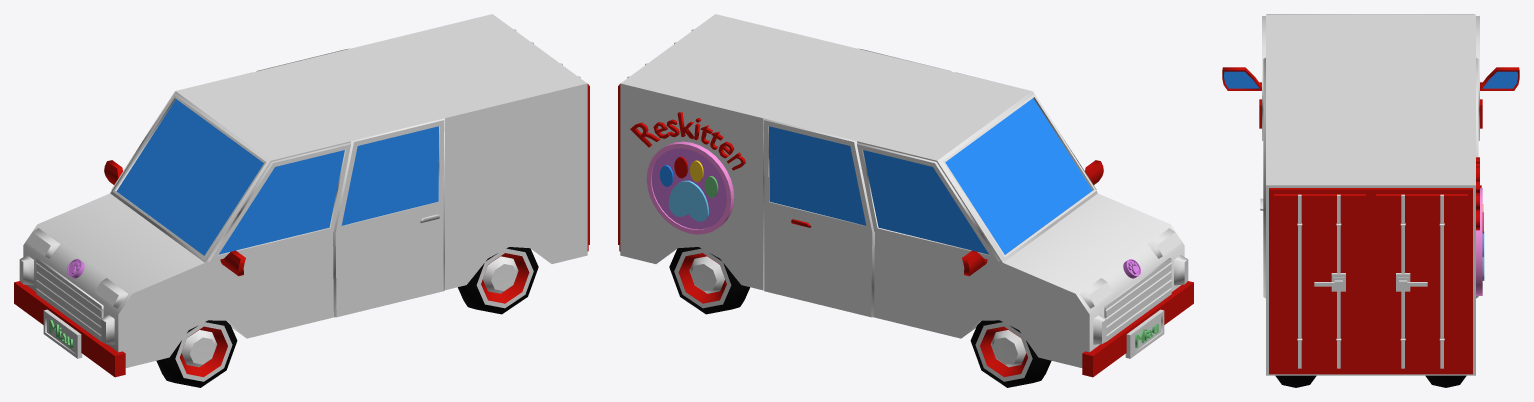
Rendered from FurgoReskittenAssets (1).fbx.
3 views of the same model, side by side, from view 1: azimuth 30°, elevation 25°; view 2: azimuth 150°, elevation 25°; view 3: azimuth 270°, elevation 25° (orthographic). The views are drawn at different scales.
Parts seen in each view (by area): view 1: Fragoneta; view 2: Fragoneta; view 3: Fragoneta.
Boxes of the visible parts, bbox=[...] form: Fragoneta: bbox=[14, 14, 589, 387]; Fragoneta: bbox=[618, 14, 1193, 387]; Fragoneta: bbox=[1222, 14, 1519, 387].
Bounding box in the file's own units: 3743 × 1597 × 1770.
